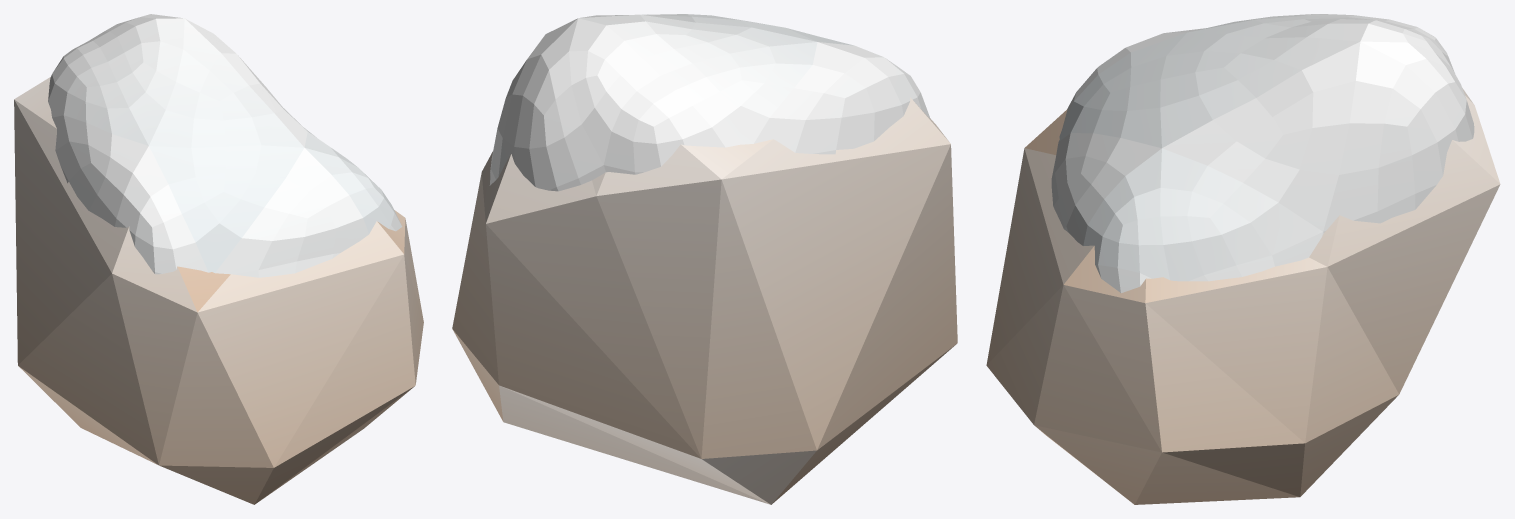
The model's file is roche1_complet.fbx.
3 views of the same model, side by side, from view 1: azimuth 30°, elevation 25°; view 2: azimuth 150°, elevation 25°; view 3: azimuth 270°, elevation 25° (orthographic). The views are drawn at different scales.
Visible parts, largest first — view 1: Cube.005, Cube.007; view 2: Cube.005, Cube.007; view 3: Cube.005, Cube.007.
Boxes of the visible parts, x1,y1,x2,y2 form: Cube.005: (14,77,423,504); Cube.007: (48,14,402,277); Cube.005: (452,97,957,504); Cube.007: (489,14,930,191); Cube.005: (986,88,1500,504); Cube.007: (1051,14,1474,292).
Bounding box in the file's own units: 2.52 × 2.7 × 2.89.
1 material, 1 textured.
